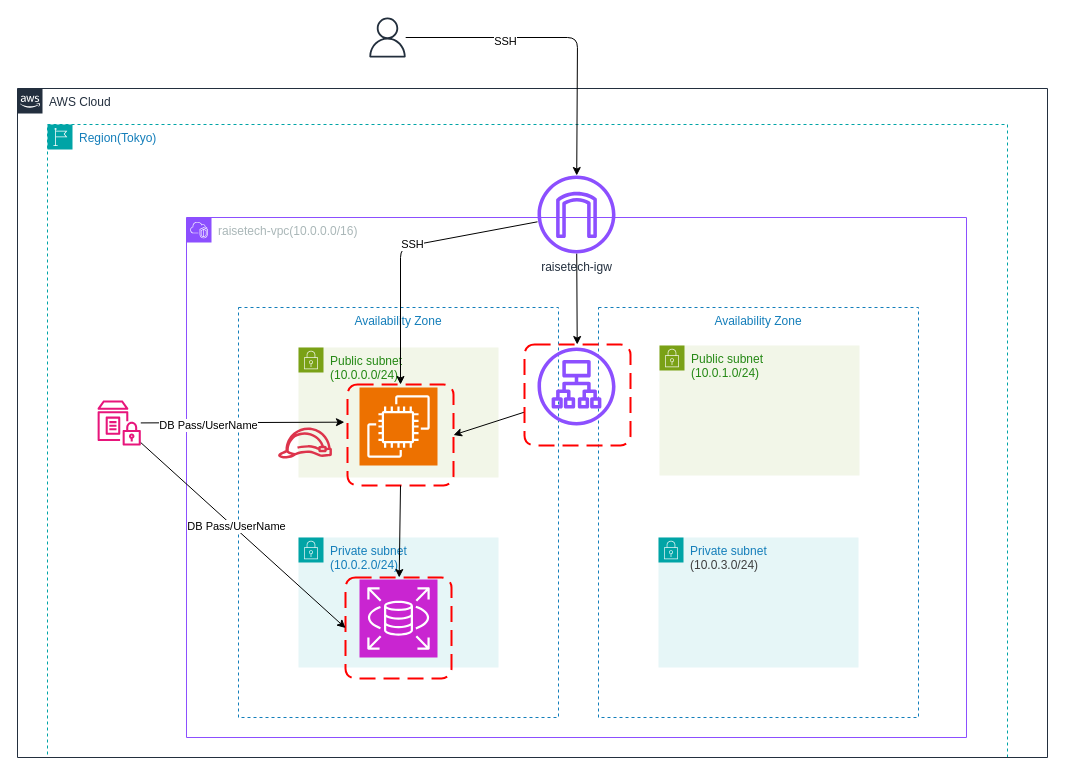
The diagram is 1065 pixels wide and 775 high, and some of its shapes have lost their labels. The shapes that lost their labels are listed below. From the top down, each one's centre as x and y in pixels, then its label:
the point at 387,37: Admin
the point at 576,386: raisetech-alb
the point at 118,422: Parameter Store
the point at 398,426: raisetech-ap
the point at 398,618: raisetech-db
